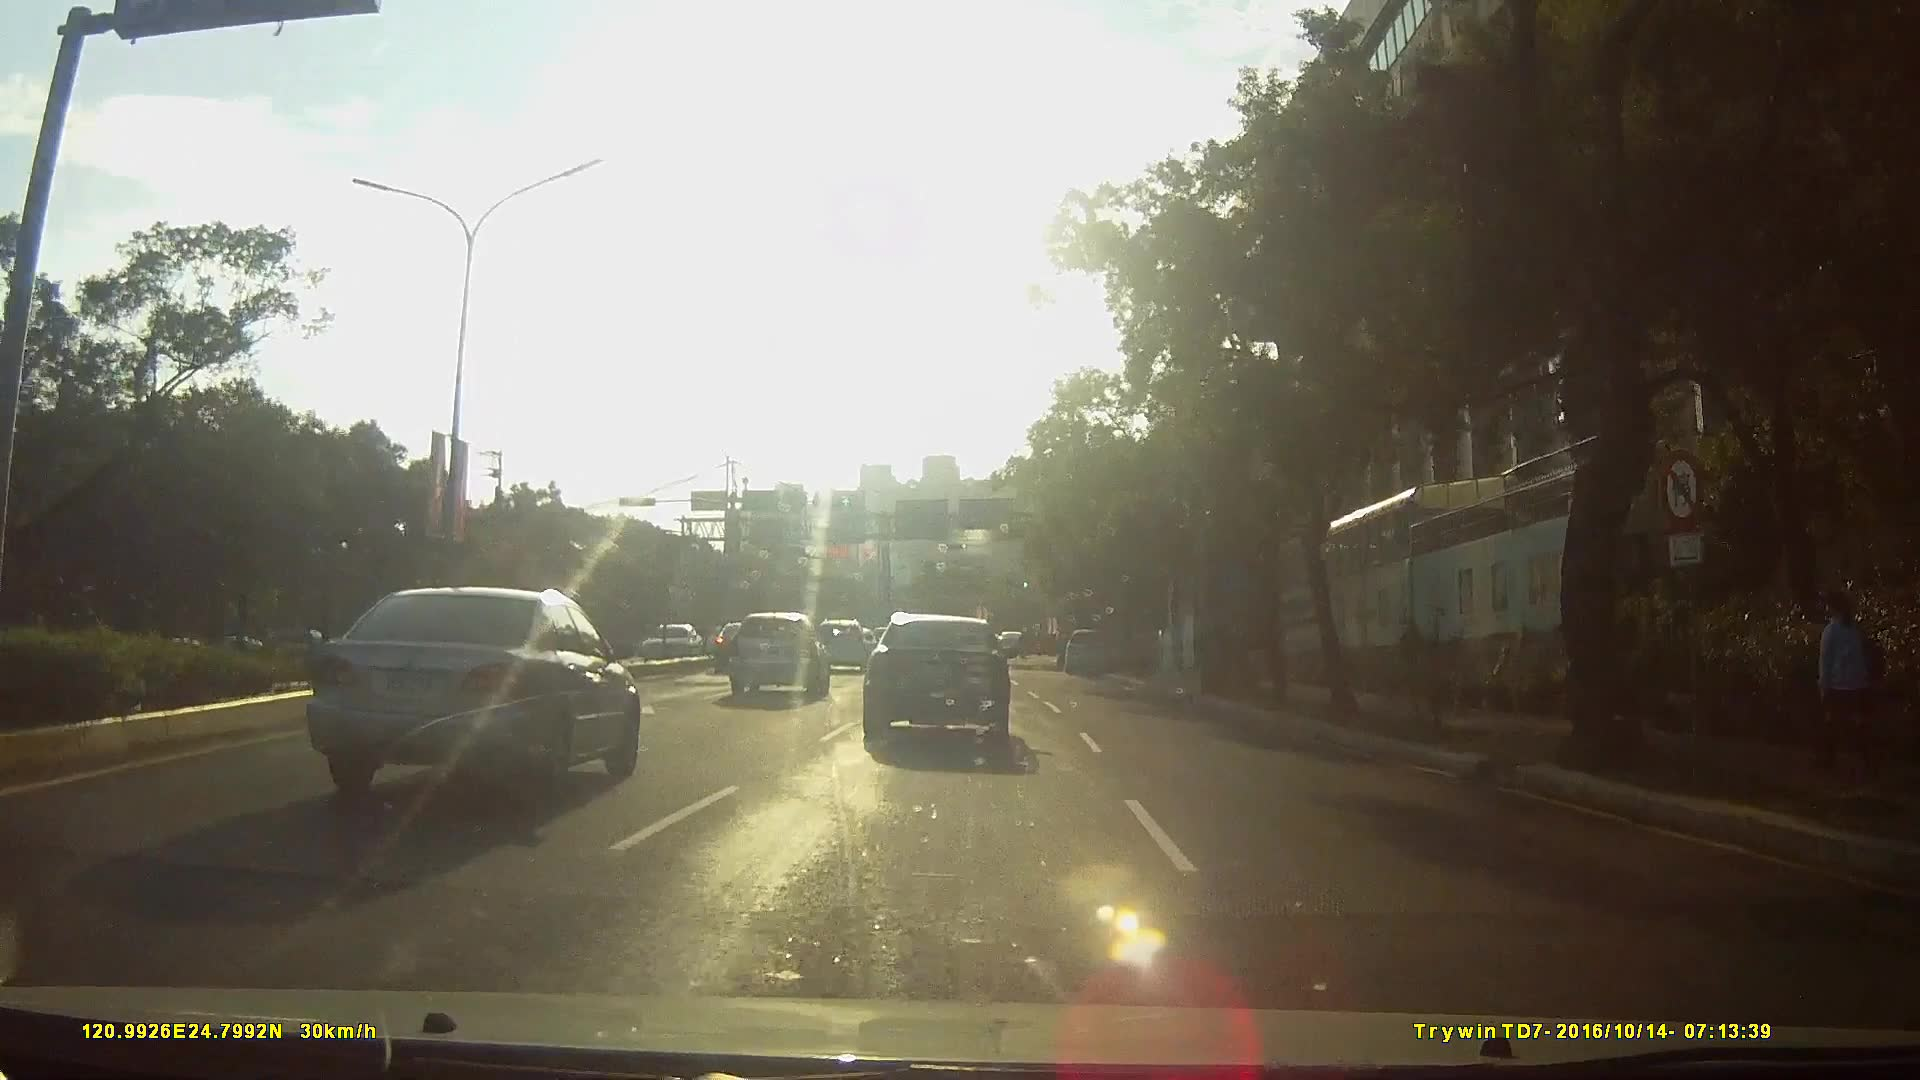pedestrian: (1814, 587, 1884, 780)
vehicle: (280, 582, 653, 815), (863, 611, 1035, 758), (724, 611, 829, 704), (632, 618, 717, 667), (807, 619, 869, 677), (701, 624, 762, 681), (1060, 630, 1114, 679), (703, 623, 745, 660)
